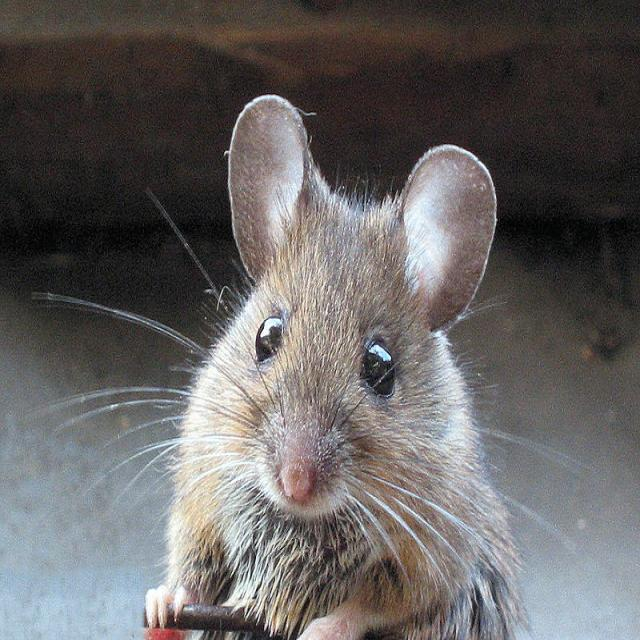rat: (131, 74, 540, 640)
